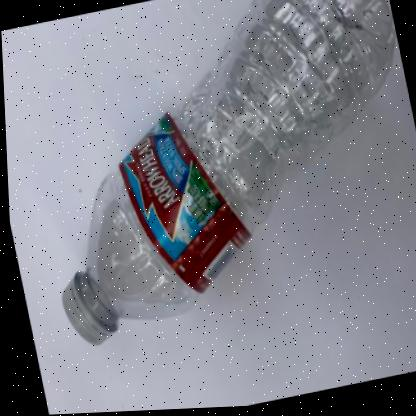Plastic: (59, 0, 395, 345)
